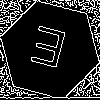E: (25, 25, 69, 78)
